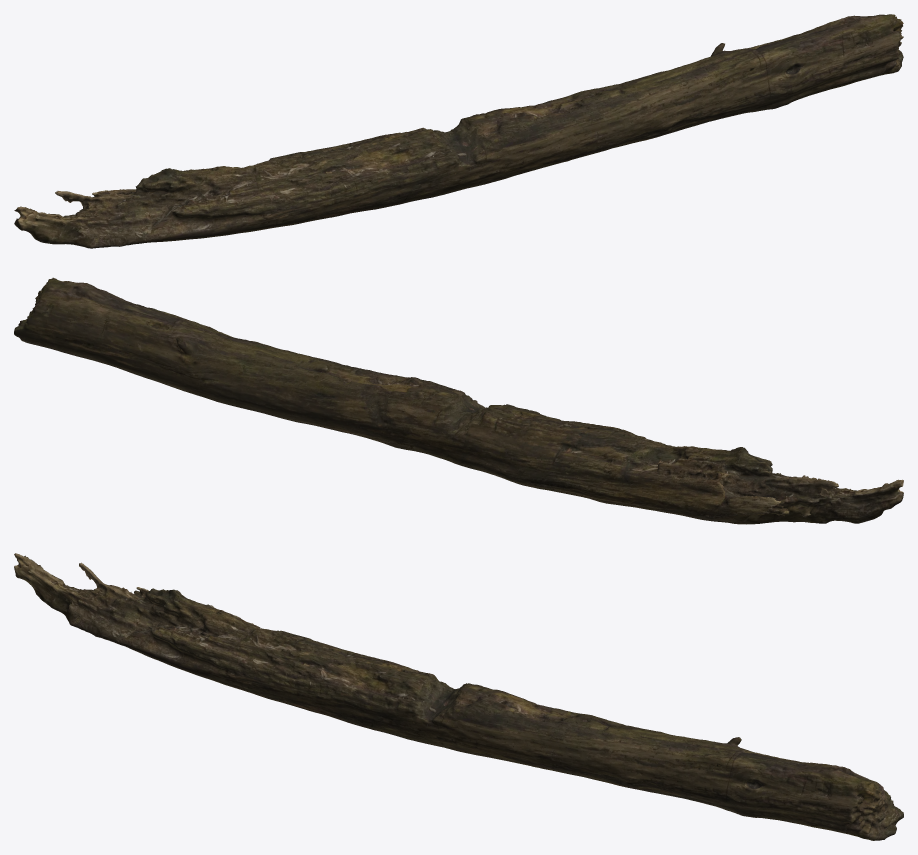
File: tree_dead1.glb
3 views of the same model, one above another, from view 1: azimuth 30°, elevation 25°; view 2: azimuth 150°, elevation 25°; view 3: azimuth 330°, elevation 25° (orthographic).
Parts seen in each view (by area): view 1: dead_tree_trunk; view 2: dead_tree_trunk; view 3: dead_tree_trunk.
Part boxes in pixels (x1,y1,x2,y2): dead_tree_trunk: [14, 14, 903, 248]; dead_tree_trunk: [14, 277, 903, 524]; dead_tree_trunk: [14, 553, 903, 840].
Size of the model in its own units: 3.05 by 0.2905 by 0.2775.
1 material, 1 textured.
